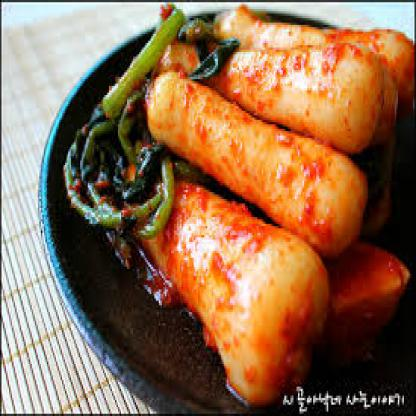chonggak Kimchi: (120, 7, 412, 366)
